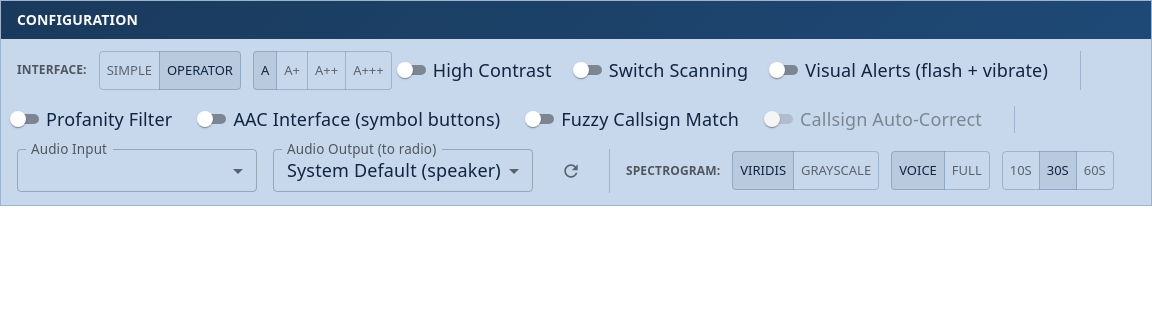
Test: ConfigPanel › shows fallback device options when inputDevices prop is empty
Step 1. Click the dropdown named "audio input" → (137, 171), box [17, 149, 257, 192]
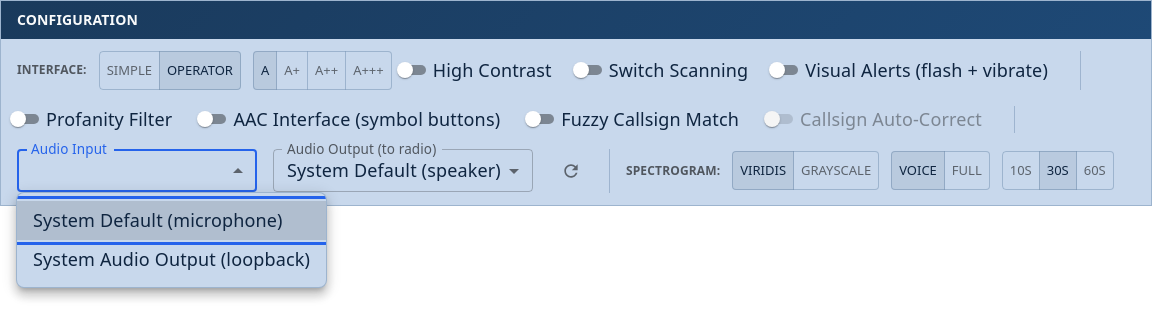
Check: the option "System Default (microphone)" is shown, box [17, 201, 326, 240]
Check: the option "System Audio Output (loopback)" is shown, box [17, 240, 326, 279]
